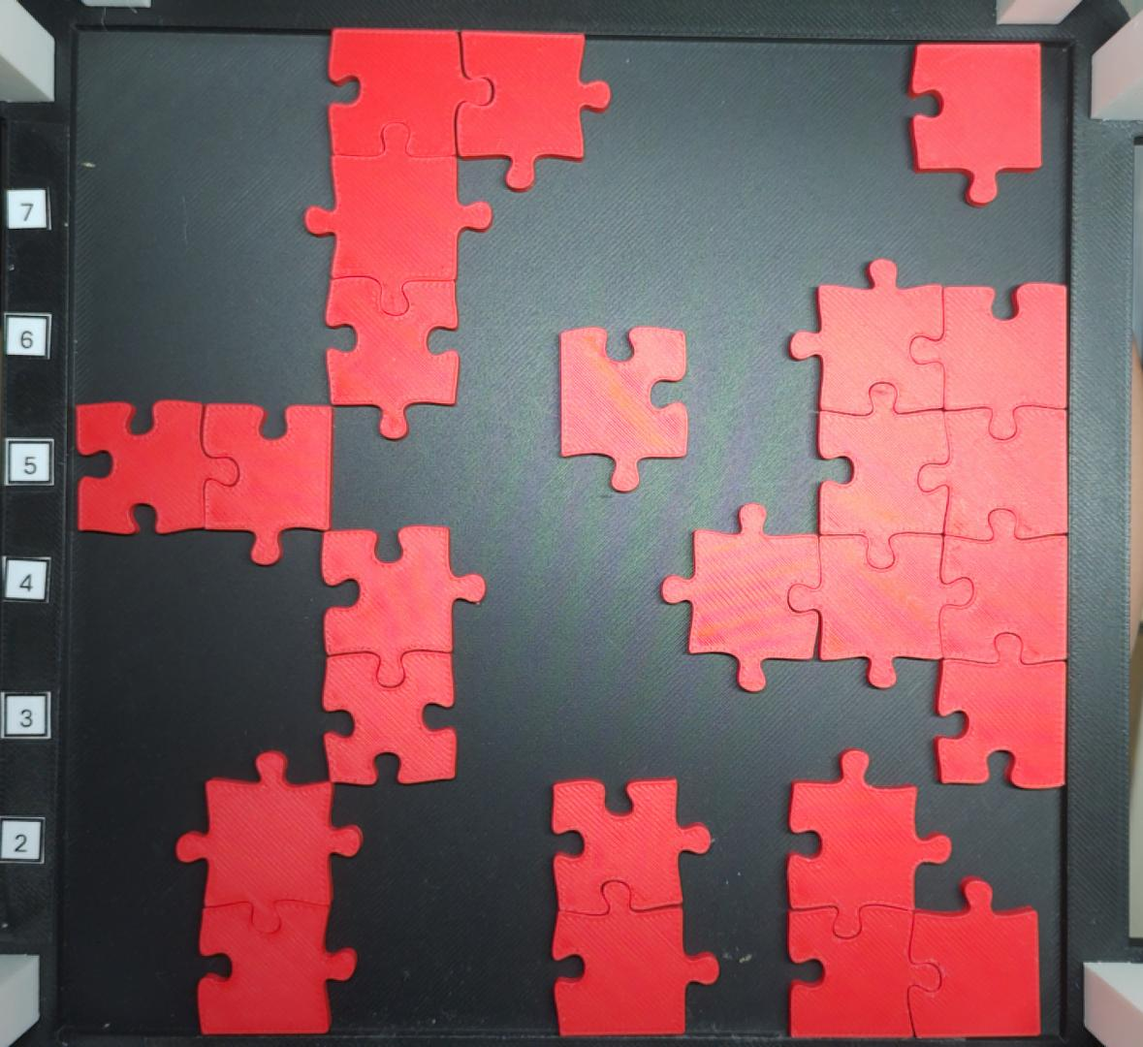p_1: (556, 326, 692, 492), (910, 44, 1043, 206)
p_2: (176, 750, 358, 1034), (549, 777, 718, 1037), (74, 398, 333, 567), (324, 524, 488, 786)
p_3: (786, 747, 1043, 1039)
p_4: (302, 26, 612, 438)
p_m: (656, 256, 1069, 791)
